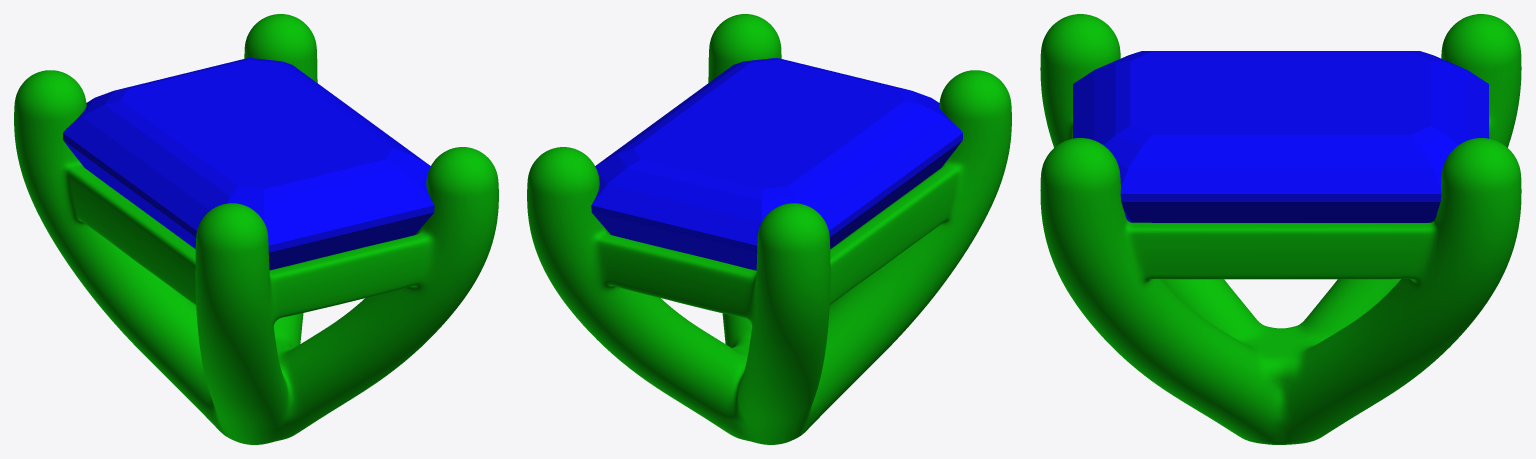
The picture shows the model from 3 angles, left to right: view 1: azimuth 30°, elevation 25°; view 2: azimuth 150°, elevation 25°; view 3: azimuth 270°, elevation 25°; orthographic projection. The views are drawn at different scales.
Visible parts, largest first — view 1: Metal01, Diamond_Emerald; view 2: Metal01, Diamond_Emerald; view 3: Metal01, Diamond_Emerald.
Part boxes in pixels (x1,y1,x2,y2): Metal01: (14,14,498,444); Diamond_Emerald: (63,57,434,270); Metal01: (527,14,1011,444); Diamond_Emerald: (591,58,962,270); Metal01: (1040,14,1521,444); Diamond_Emerald: (1073,51,1488,222).
Size of the model in its own units: 4.77 by 4.93 by 6.14.
